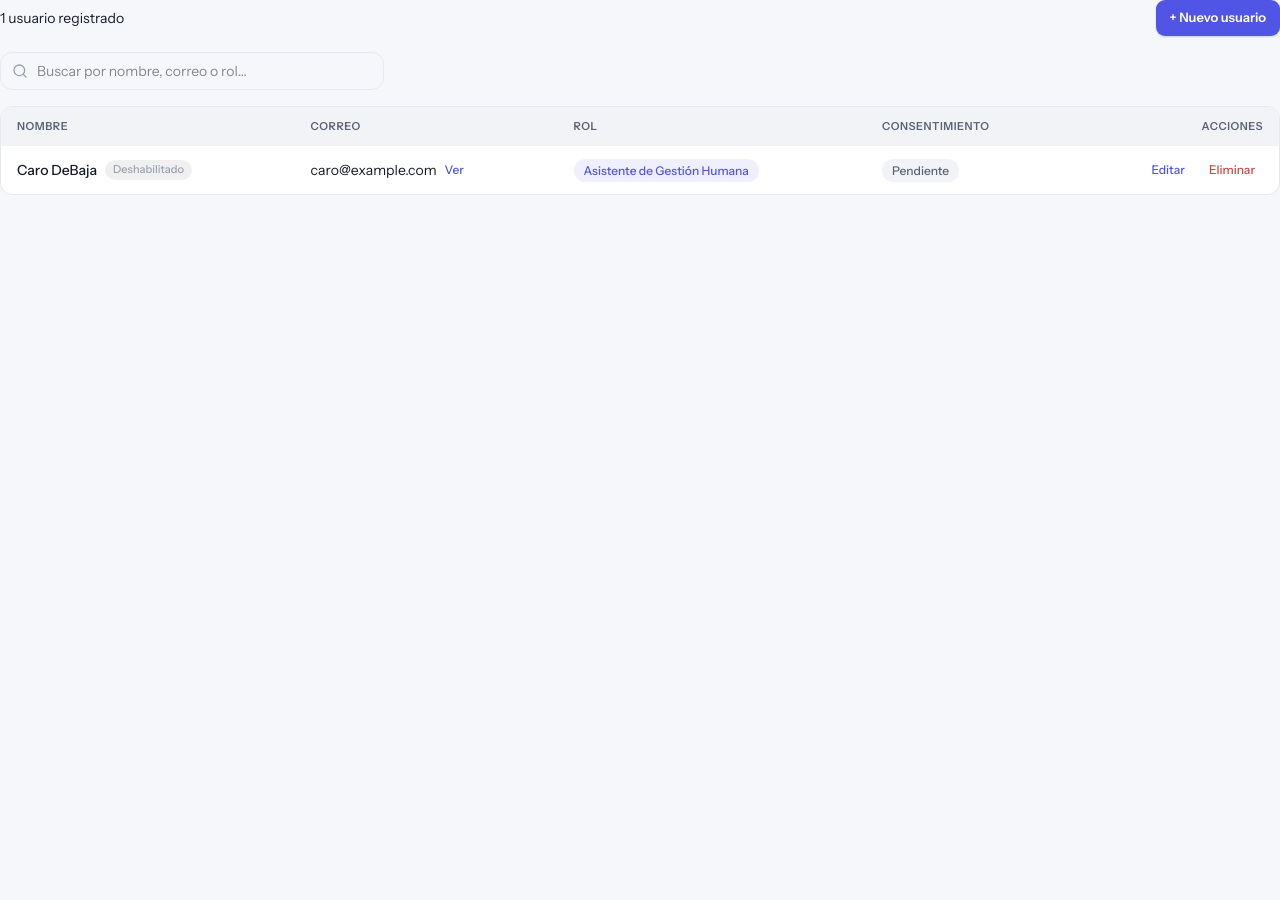
UsersManager — estado del usuario en la lista › muestra el motivo por el que el backend rechaza el borrado
Expected: the text "Caro DeBaja" is shown, [17, 160, 97, 180]
Click the button "Eliminar" at (1232, 170), box [1201, 158, 1263, 182]
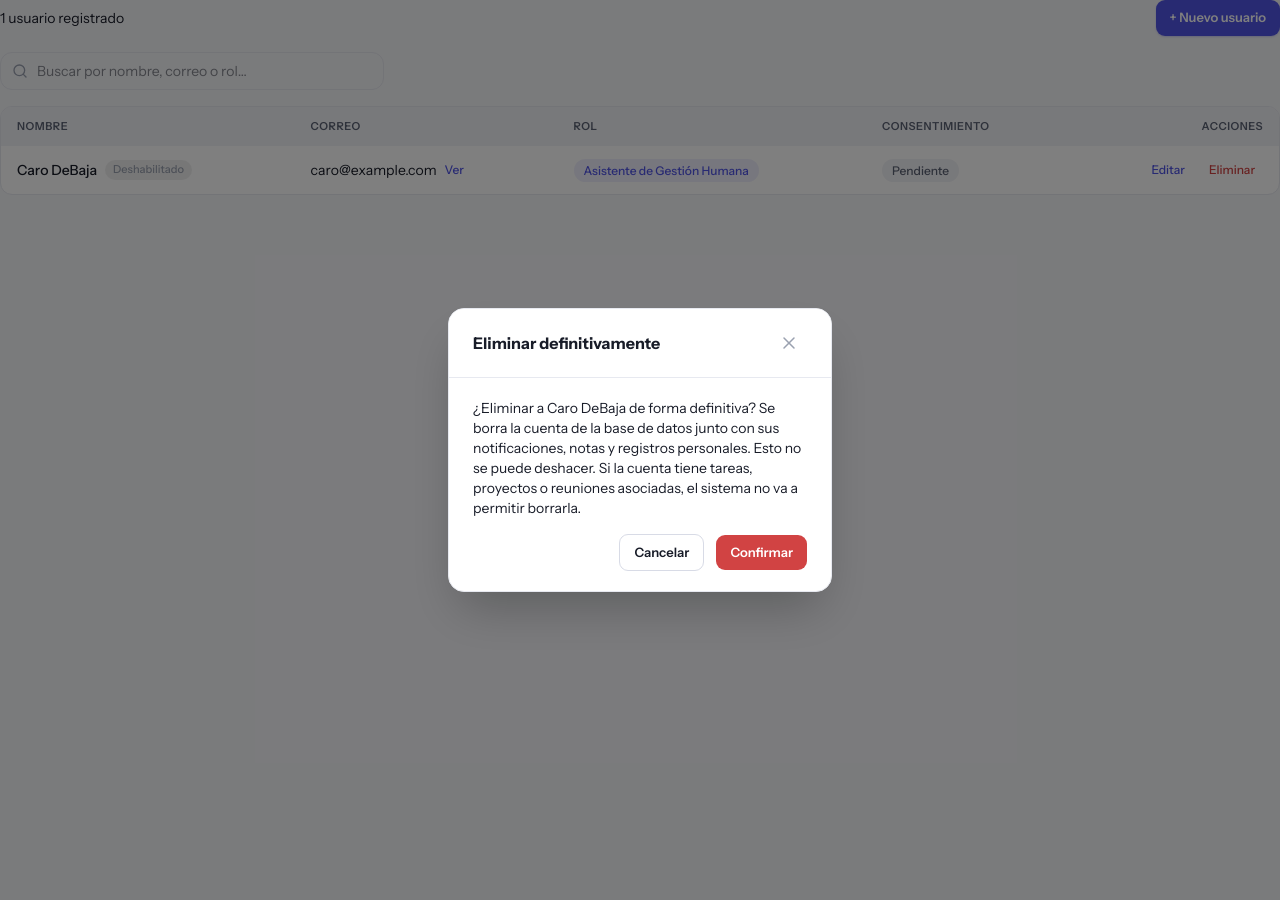
Click the button "Confirmar" at (762, 553), box [716, 535, 807, 570]
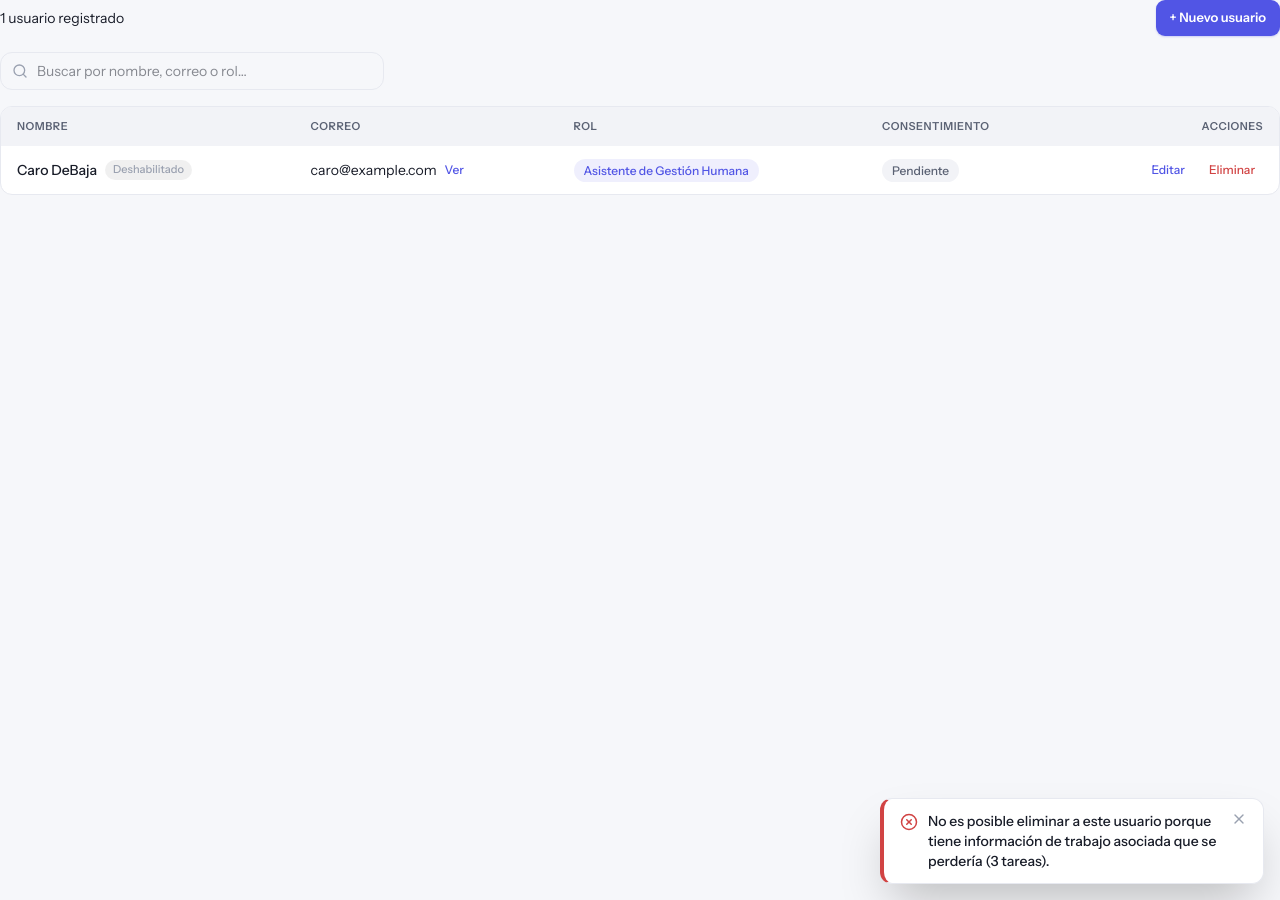
Result: the text "No es posible eliminar a este usuario porque tiene información de trabajo asociada que se perdería (3 tareas)." is shown at [928, 812, 1216, 870]
